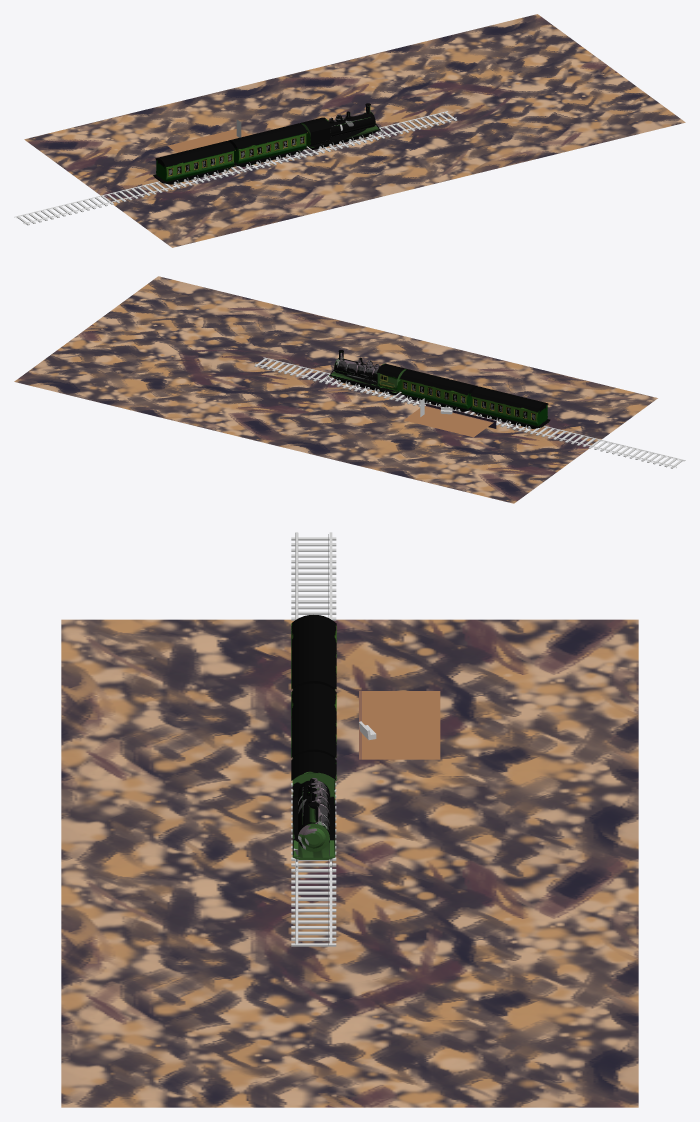
Rendered from ruin.glb.
3 views of the same model, one above another, from view 1: azimuth 30°, elevation 25°; view 2: azimuth 150°, elevation 25°; view 3: azimuth 270°, elevation 25° (orthographic). The views are drawn at different scales.
Parts seen in each view (by area): view 1: Plane (×2), Carriage-body-col.003 (×2), track (×3), Engine-col.003, platform; view 2: Plane (×2), Carriage-body-col.003 (×2), track (×2), Engine-col.003, platform; view 3: Plane (×2), Carriage-body-col.003 (×2), track (×2), platform, Engine-col.003.
Part boxes in pixels (x1,y1,x2,y2): Plane (×2): (24,14,685,247); Carriage-body-col.003 (×2): (153,123,307,184); track (×3): (14,111,457,225); Engine-col.003: (300,103,380,149); platform: (167,129,248,152); Plane (×2): (14,276,657,503); Carriage-body-col.003 (×2): (400,369,550,428); track (×2): (254,357,685,468); Engine-col.003: (328,350,407,395); platform: (404,404,496,437); Plane (×2): (61,619,638,1107); Carriage-body-col.003 (×2): (291,615,336,789); track (×2): (291,532,336,946); platform: (359,691,440,759); Engine-col.003: (291,751,336,859).
Size of the model in its own units: 150 by 7.7 by 64.
6 materials, 6 textured.
